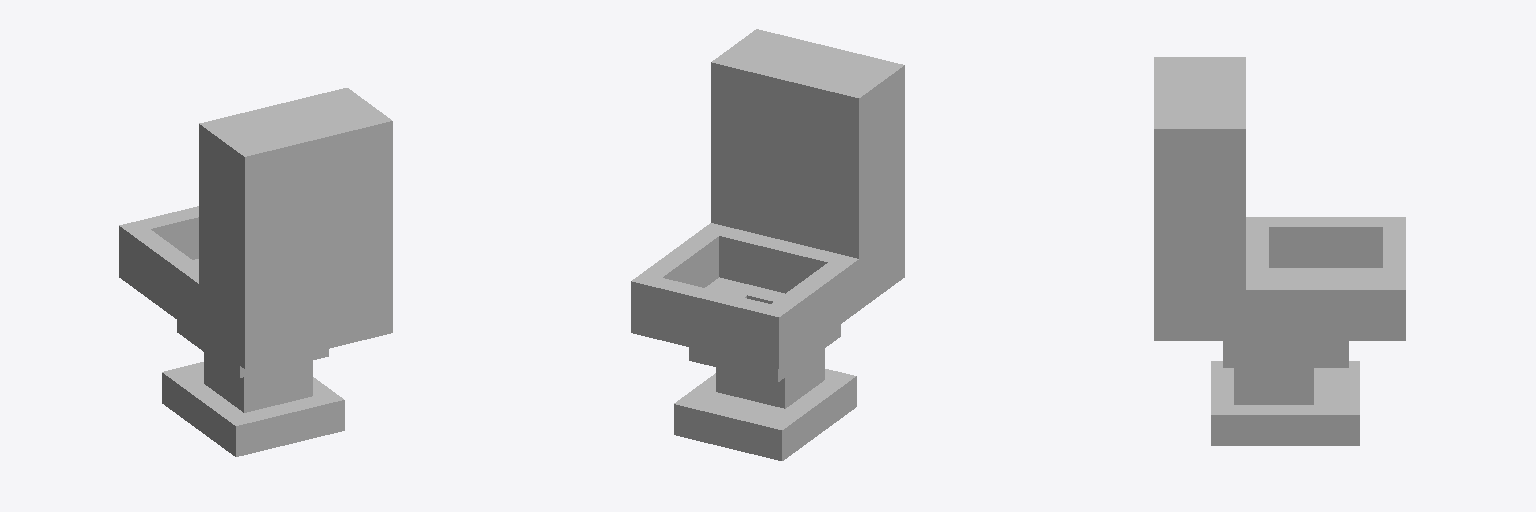
File: Toilet.obj
3 views of the same model, side by side, from view 1: azimuth 30°, elevation 25°; view 2: azimuth 150°, elevation 25°; view 3: azimuth 270°, elevation 25° (orthographic).
Parts seen in each view (by area): view 1: Toilet; view 2: Toilet; view 3: Toilet.
Boxes of the visible parts, box(x1,y1,x2,y2) form: Toilet: box(119, 88, 392, 456); Toilet: box(631, 29, 904, 460); Toilet: box(1154, 57, 1405, 445).
Size of the model in its own units: 60 by 126 by 88.